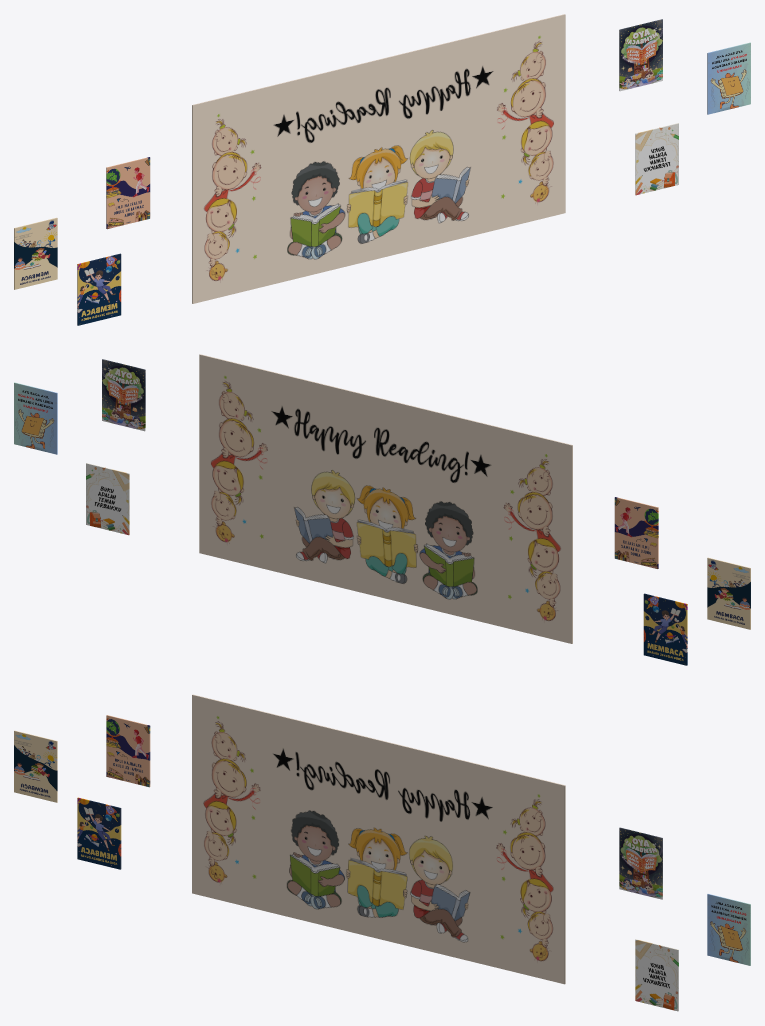
File: poster.fbx
3 renders of one model, top to bottom at view 1: azimuth 30°, elevation 25°; view 2: azimuth 150°, elevation 25°; view 3: azimuth 330°, elevation 25°, orthographic.
Parts seen in each view (by area): view 1: Cube.013, Plane.004, Plane.005, Plane, Plane.003, Plane.002, Plane.006; view 2: Cube.013, Plane.004, Plane.005, Plane.003, Plane.006, Plane, Plane.002; view 3: Cube.013, Plane.004, Plane.005, Plane, Plane.002, Plane.006, Plane.003.
Part boxes in pixels (x1,y1,x2,y2): Cube.013: [192, 14, 565, 303]; Plane.004: [106, 157, 150, 229]; Plane.005: [77, 253, 121, 325]; Plane: [635, 123, 678, 195]; Plane.003: [707, 42, 750, 114]; Plane.002: [619, 19, 662, 91]; Plane.006: [14, 217, 57, 289]; Cube.013: [199, 354, 572, 643]; Plane.004: [614, 497, 658, 568]; Plane.005: [643, 593, 687, 665]; Plane.003: [14, 382, 57, 454]; Plane.006: [707, 557, 750, 629]; Plane: [86, 463, 129, 535]; Plane.002: [102, 359, 145, 431]; Cube.013: [192, 694, 565, 984]; Plane.004: [106, 715, 150, 787]; Plane.005: [77, 797, 121, 869]; Plane: [635, 939, 678, 1011]; Plane.002: [619, 827, 662, 899]; Plane.006: [14, 730, 57, 802]; Plane.003: [707, 894, 750, 965].
Bounding box in the file's own units: 776 × 200 × 1.23.
